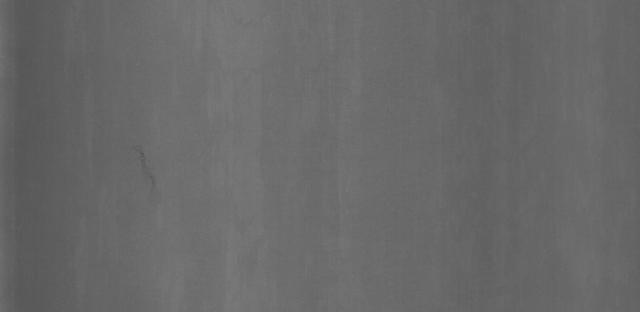water_spot: (120, 132, 173, 212)
